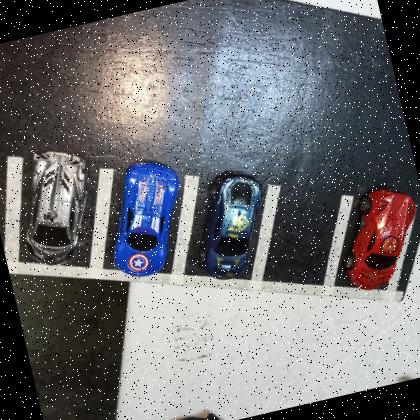Car: (91, 152, 200, 284), (3, 138, 108, 272), (179, 163, 283, 287), (327, 179, 420, 296)
